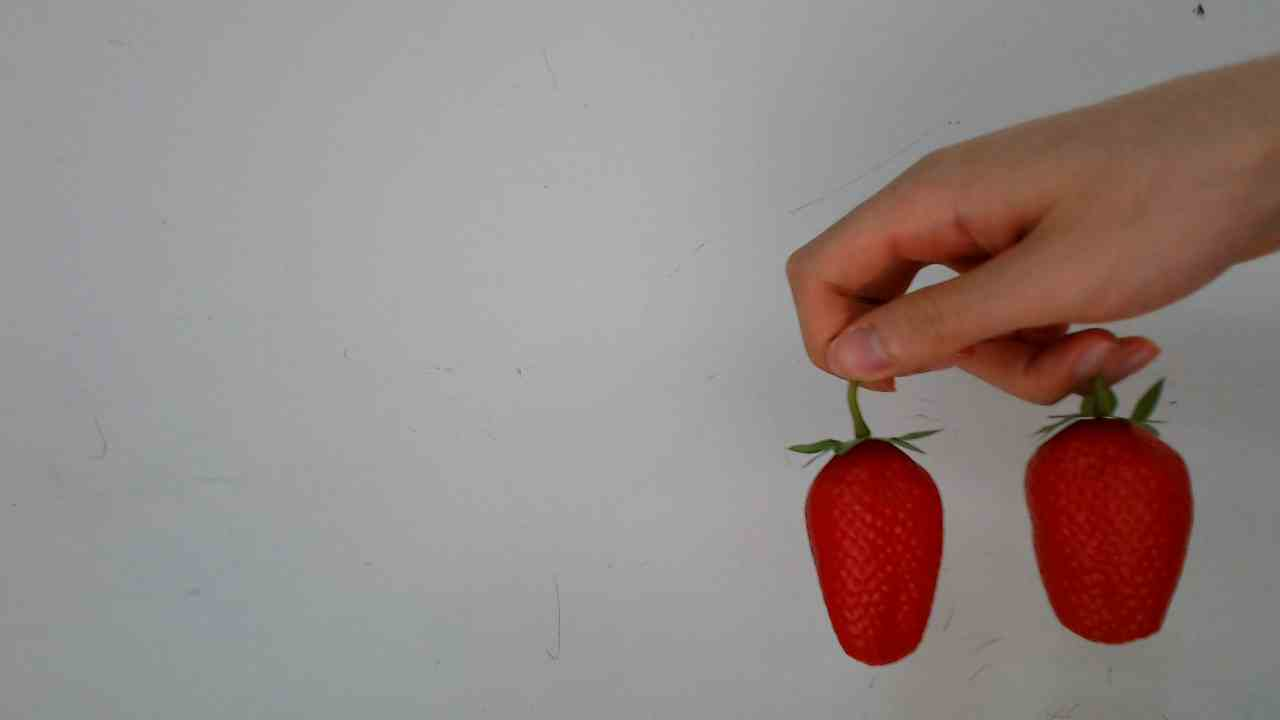strawberry: (1020, 403, 1198, 651), (793, 427, 958, 671)
